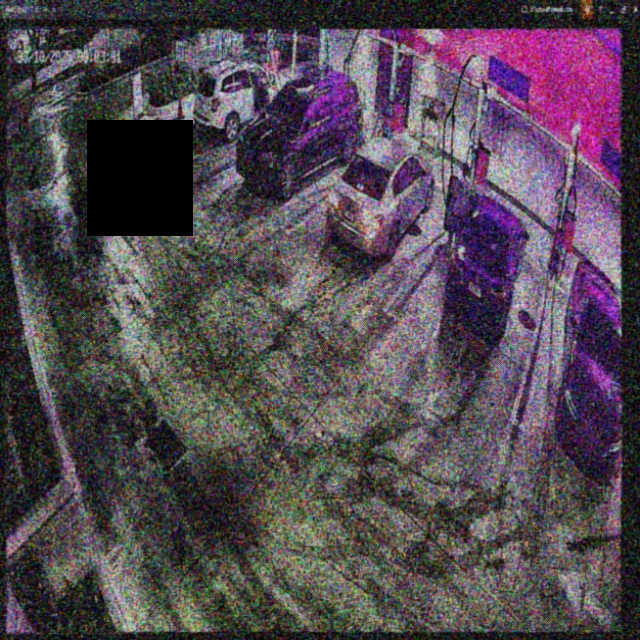Car: (235, 70, 361, 191), (444, 178, 530, 339), (330, 135, 434, 259)
